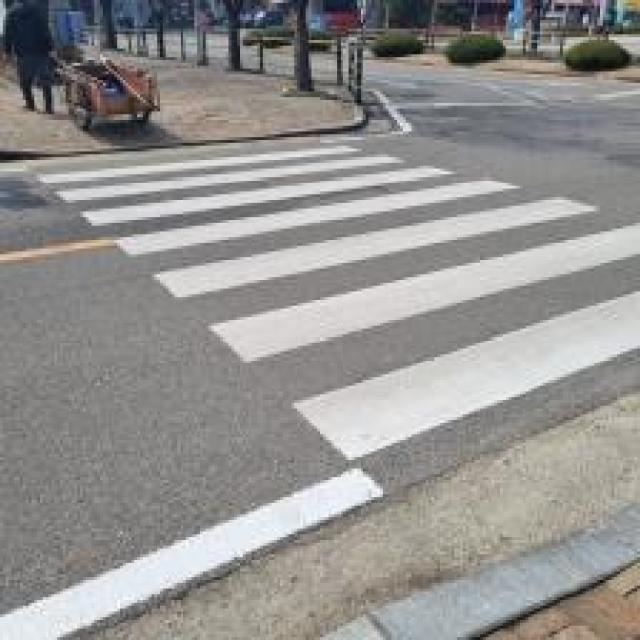walk-crossing: (40, 143, 640, 417)
